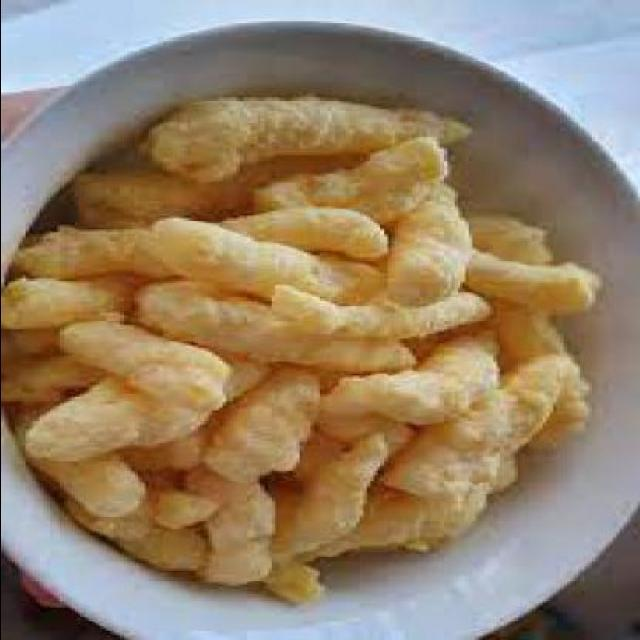Chips packaged: (46, 114, 556, 580)
